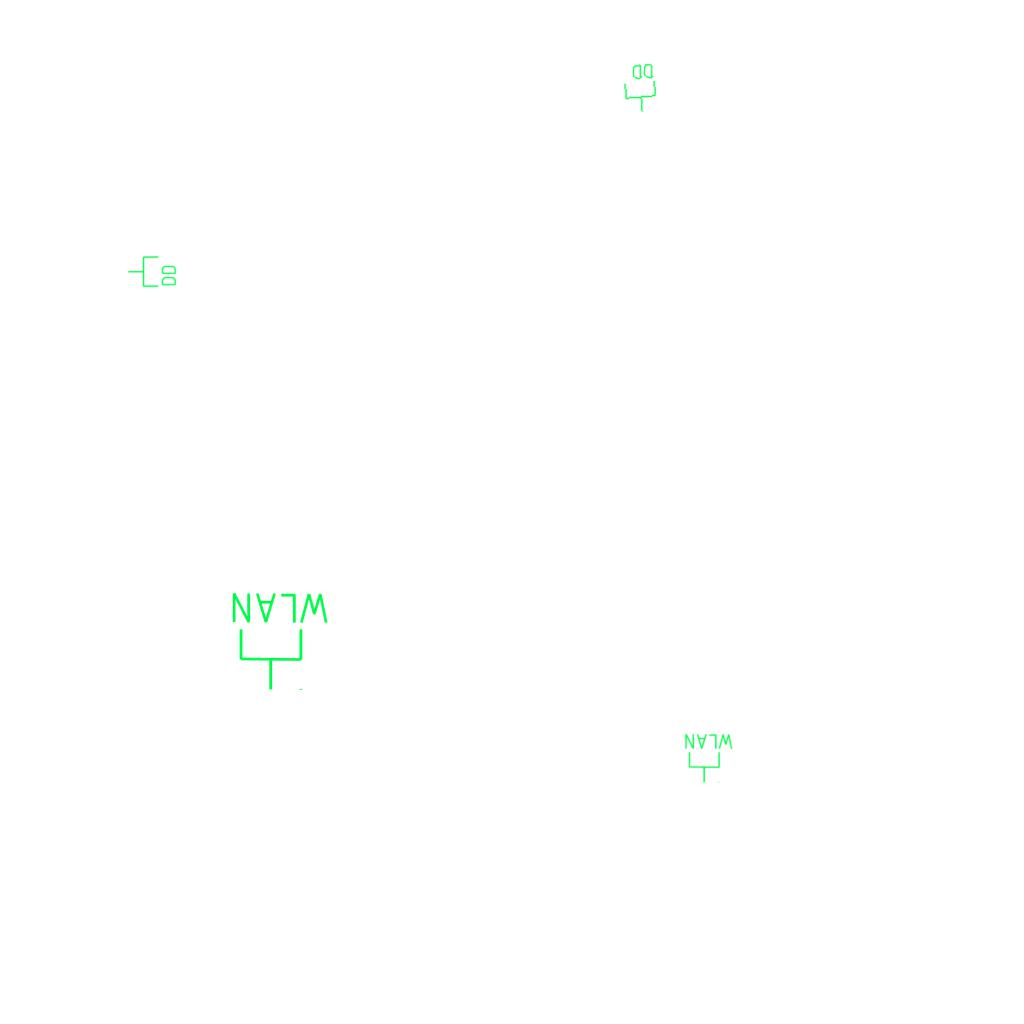Datenanschluss_zweifach: (621, 61, 660, 115), (127, 255, 178, 289)
WLAN: (228, 589, 333, 693), (683, 732, 735, 784)
